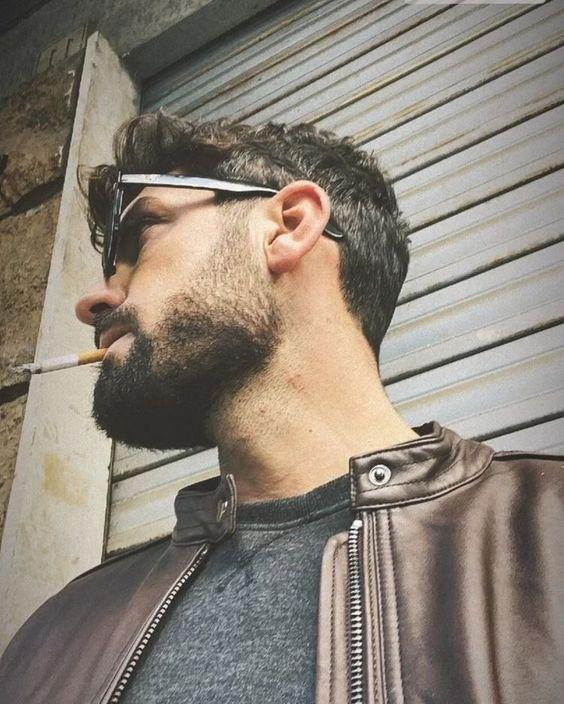cigarette: (7, 348, 108, 376)
